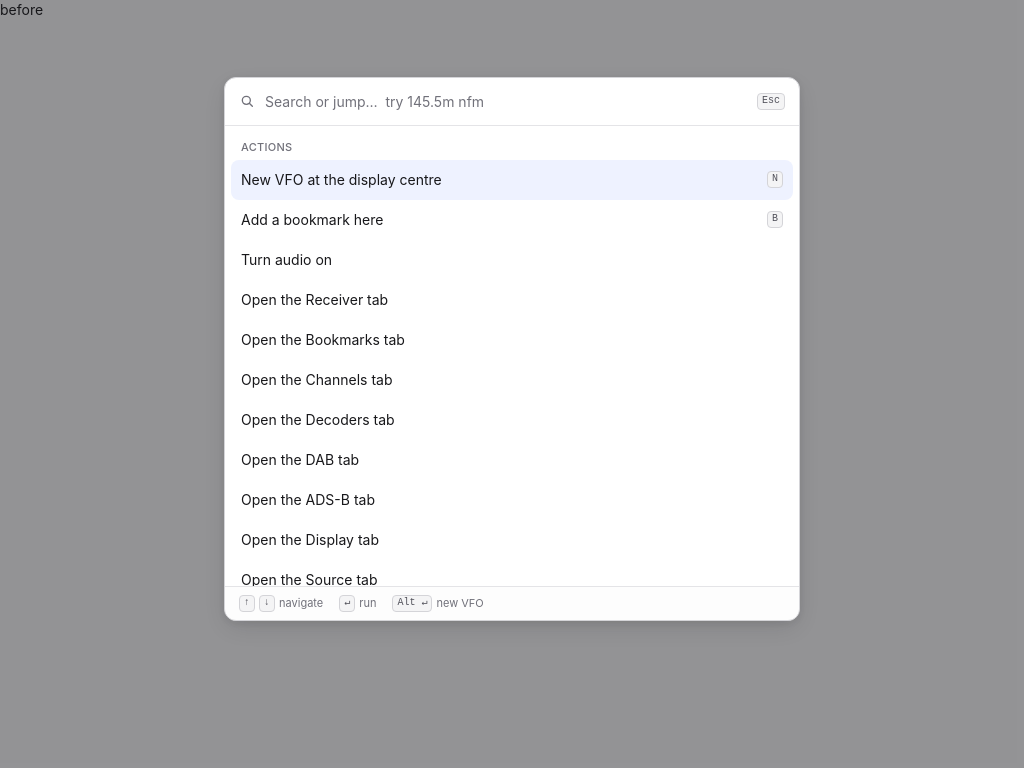
Test case: Palette › says so when nothing matches
Type "qqqqzzzz" into the dropdown at (506, 101), box [265,78,747,125]
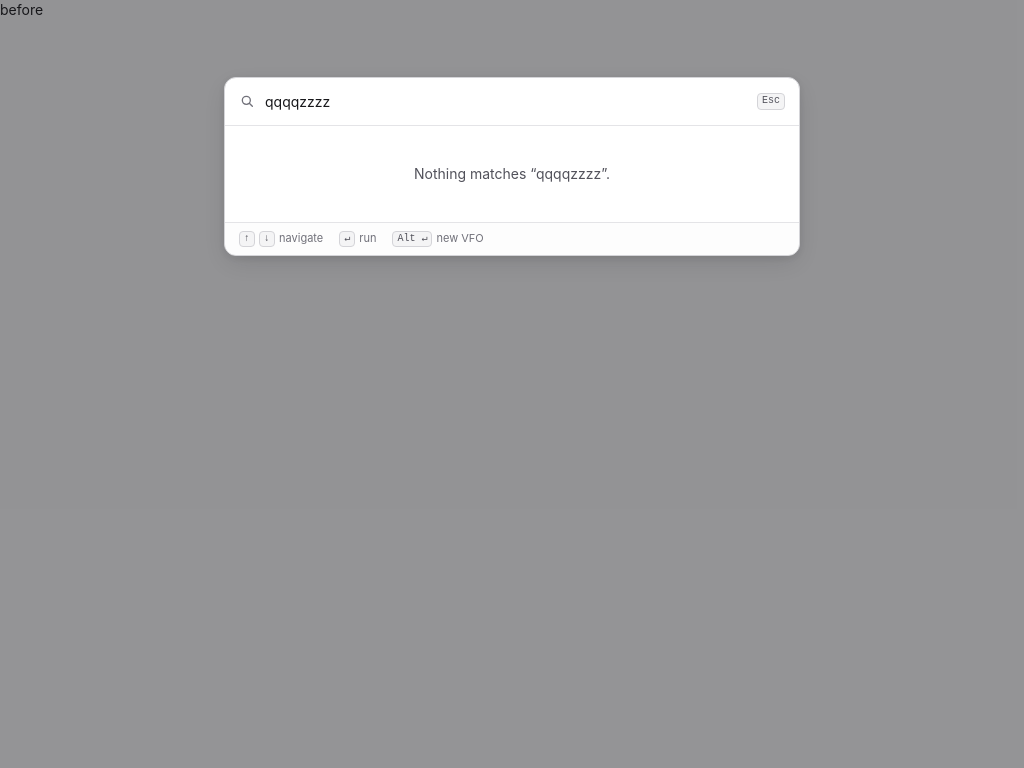
Result: no options are shown
Result: the text "Nothing matches “qqqqzzzz”." is shown at [414,165,610,182]
